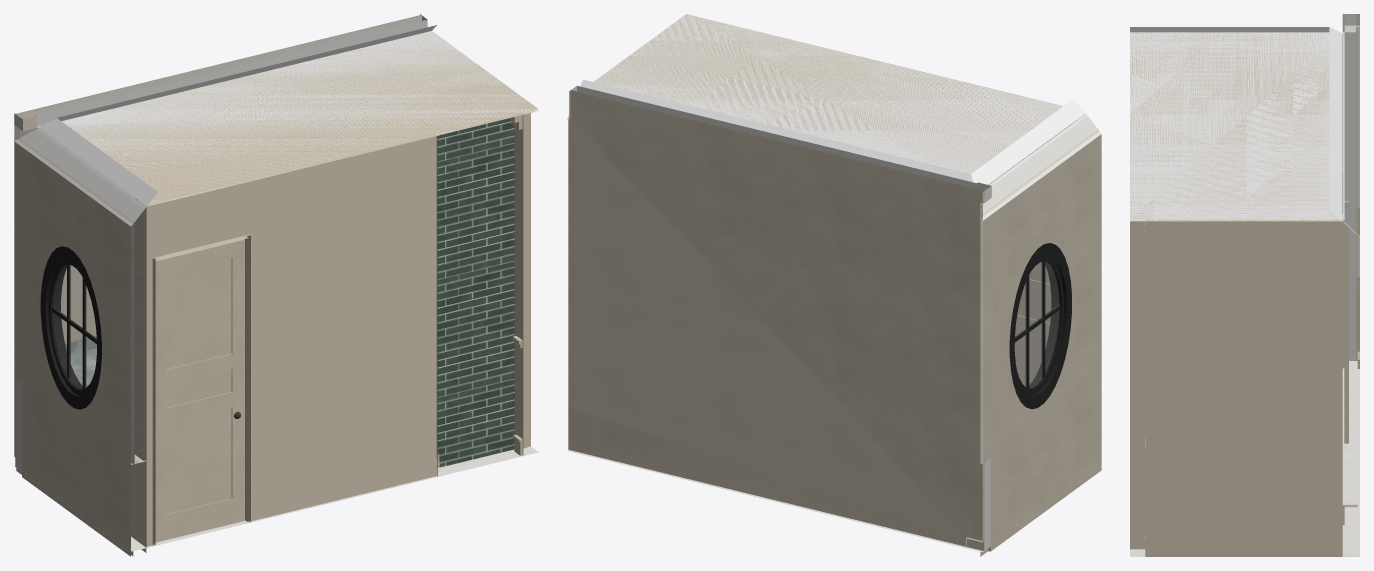
The model's file is green-bath-ad7330af214b.glb.
The picture shows the model from 3 angles, left to right: view 1: azimuth 30°, elevation 25°; view 2: azimuth 150°, elevation 25°; view 3: azimuth 270°, elevation 25°; orthographic projection. The views are drawn at different scales.
Parts seen in each view (by area): view 1: green-bath-b6ab44e8ab2b63f4, green-bath-e8793759323e04f0, green-bath-9d91b47435c6fb33, green-bath-235bf0030923b7b8, green-bath-5e646f76b0244fe8, green-bath-312b4ac1be39223d, green-bath-33ee0b466567e5f0, green-bath-45debf23193247f8, green-bath-9a6873bb27e0e1d8, green-bath-8d8280a2b3ef8b4c, green-bath-3a4d9d62ecd7be1c, green-bath-39b94aca90fa4b53 (+6 smaller); view 2: green-bath-bd62734a7bc60eb7, green-bath-ca9c0b57f88e5741, green-bath-9d91b47435c6fb33, green-bath-e8793759323e04f0, green-bath-312b4ac1be39223d, green-bath-33ee0b466567e5f0, green-bath-45debf23193247f8, green-bath-9a6873bb27e0e1d8, green-bath-5e646f76b0244fe8, green-bath-39b94aca90fa4b53, green-bath-6ffca0ecbe7bb20f; view 3: green-bath-4fe5579be934d30a, green-bath-9d91b47435c6fb33, green-bath-e8793759323e04f0, green-bath-689020e0fc226264, green-bath-6ffca0ecbe7bb20f, green-bath-39b94aca90fa4b53, green-bath-7261ca91c9d343ad, green-bath-9a6873bb27e0e1d8, green-bath-82fe871d7bda5383, green-bath-312b4ac1be39223d, green-bath-6852ef8a5e690845, green-bath-bd62734a7bc60eb7 (+1 smaller).
Boxes of the visible parts, bbox=[...] form: green-bath-b6ab44e8ab2b63f4: bbox=[138, 136, 437, 547]; green-bath-e8793759323e04f0: bbox=[42, 25, 537, 204]; green-bath-9d91b47435c6fb33: bbox=[39, 31, 537, 206]; green-bath-235bf0030923b7b8: bbox=[437, 118, 513, 467]; green-bath-5e646f76b0244fe8: bbox=[155, 239, 244, 542]; green-bath-312b4ac1be39223d: bbox=[14, 125, 133, 464]; green-bath-33ee0b466567e5f0: bbox=[22, 386, 146, 556]; green-bath-45debf23193247f8: bbox=[40, 246, 101, 409]; green-bath-9a6873bb27e0e1d8: bbox=[16, 15, 427, 471]; green-bath-8d8280a2b3ef8b4c: bbox=[515, 109, 538, 455]; green-bath-3a4d9d62ecd7be1c: bbox=[35, 127, 146, 461]; green-bath-39b94aca90fa4b53: bbox=[19, 128, 144, 463]; green-bath-bd62734a7bc60eb7: bbox=[567, 91, 983, 547]; green-bath-ca9c0b57f88e5741: bbox=[568, 90, 984, 550]; green-bath-9d91b47435c6fb33: bbox=[594, 14, 1085, 184]; green-bath-e8793759323e04f0: bbox=[580, 14, 1083, 183]; green-bath-312b4ac1be39223d: bbox=[981, 131, 1101, 463]; green-bath-33ee0b466567e5f0: bbox=[988, 377, 1101, 551]; green-bath-45debf23193247f8: bbox=[1009, 243, 1071, 409]; green-bath-9a6873bb27e0e1d8: bbox=[571, 86, 990, 550]; green-bath-5e646f76b0244fe8: bbox=[988, 163, 1051, 386]; green-bath-39b94aca90fa4b53: bbox=[982, 116, 1097, 213]; green-bath-6ffca0ecbe7bb20f: bbox=[567, 450, 983, 551]; green-bath-4fe5579be934d30a: bbox=[1145, 214, 1342, 556]; green-bath-9d91b47435c6fb33: bbox=[1130, 32, 1342, 221]; green-bath-e8793759323e04f0: bbox=[1130, 27, 1340, 219]; green-bath-689020e0fc226264: bbox=[1130, 221, 1145, 549]; green-bath-6ffca0ecbe7bb20f: bbox=[1130, 361, 1359, 556]; green-bath-39b94aca90fa4b53: bbox=[1344, 28, 1355, 282]; green-bath-7261ca91c9d343ad: bbox=[1344, 201, 1348, 443]; green-bath-9a6873bb27e0e1d8: bbox=[1344, 14, 1355, 556]; green-bath-82fe871d7bda5383: bbox=[1342, 14, 1344, 556]; green-bath-312b4ac1be39223d: bbox=[1357, 26, 1359, 276]; green-bath-6852ef8a5e690845: bbox=[1356, 27, 1357, 277]; green-bath-bd62734a7bc60eb7: bbox=[1357, 14, 1359, 368].
Size of the model in its own units: 3.62 by 3.04 by 1.8.
27 materials, 6 textured.
